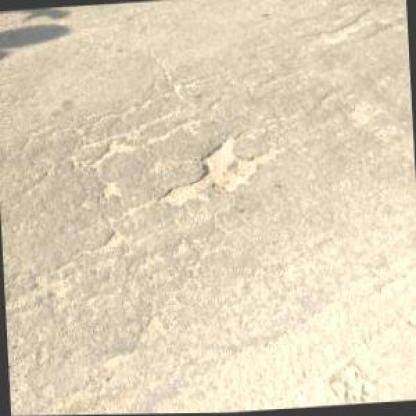pothole: (157, 132, 284, 209)
